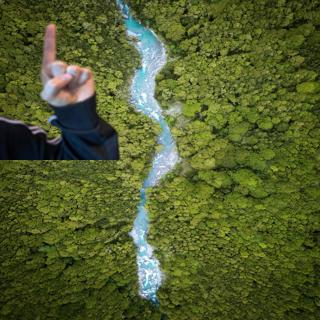IRRITATED: (35, 22, 96, 109)
